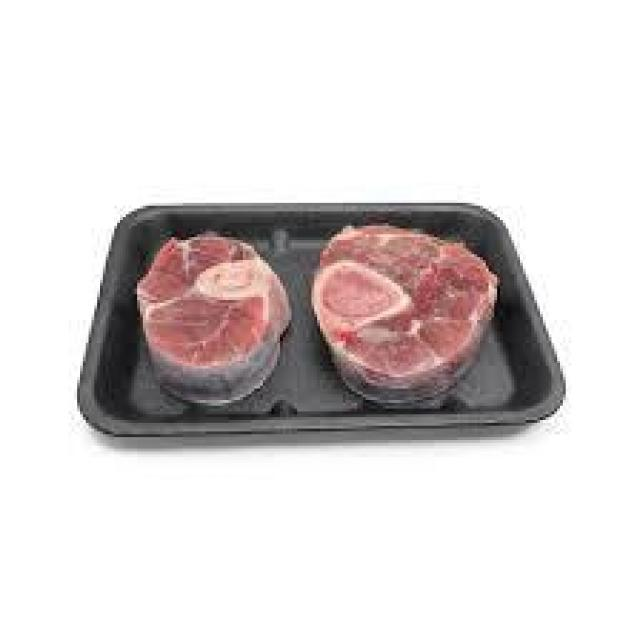beef: (142, 229, 290, 398)
